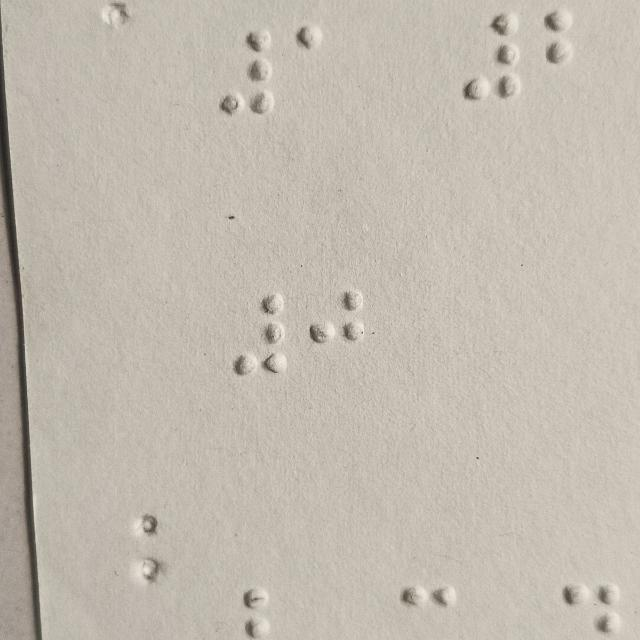digit_0: (306, 286, 366, 377)
digit_1: (293, 23, 352, 114)
digit_2: (543, 8, 602, 99)
number_sign: (218, 27, 275, 116), (463, 11, 520, 100), (229, 288, 286, 377)
